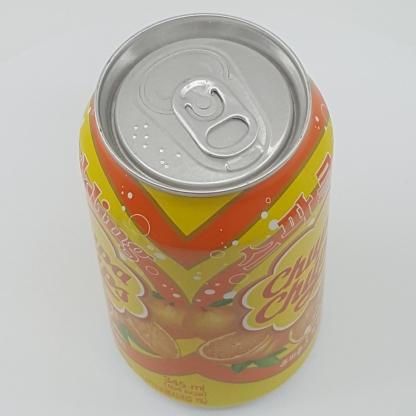----------345ML: (78, 13, 334, 408)
